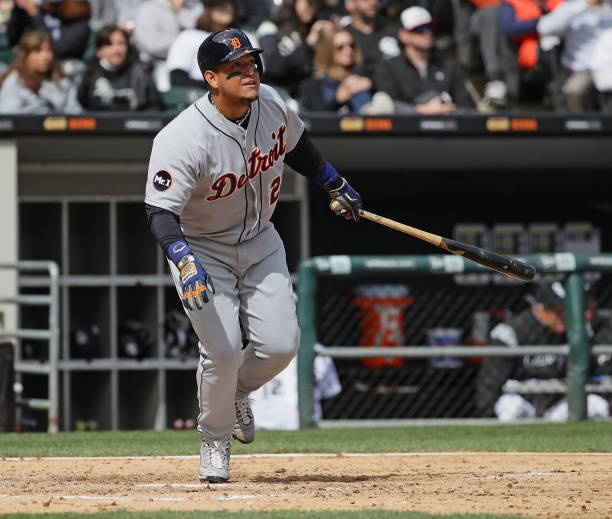bita: (333, 200, 544, 281)
